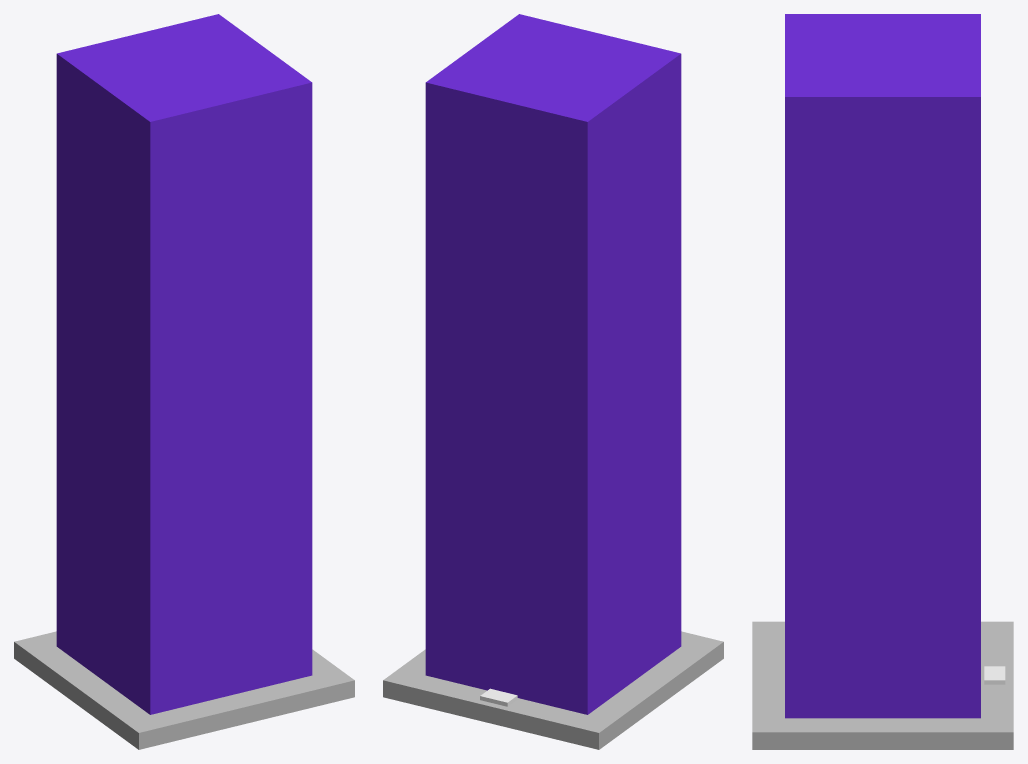
The model's file is building1.fbx.
The picture shows the model from 3 angles, left to right: view 1: azimuth 30°, elevation 25°; view 2: azimuth 150°, elevation 25°; view 3: azimuth 270°, elevation 25°; orthographic projection. The views are drawn at different scales.
Visible parts, largest first — view 1: Empty_Tile.002, Empty_Tile.001; view 2: Empty_Tile.002, Empty_Tile.001; view 3: Empty_Tile.002, Empty_Tile.001.
Part boxes in pixels (x1,y1,x2,y2): Empty_Tile.002: [56, 14, 312, 714]; Empty_Tile.001: [14, 631, 354, 749]; Empty_Tile.002: [425, 14, 681, 714]; Empty_Tile.001: [383, 631, 723, 749]; Empty_Tile.002: [785, 14, 980, 718]; Empty_Tile.001: [752, 621, 1013, 749].
Bounding box in the file's own units: 800 × 2158 × 800.
